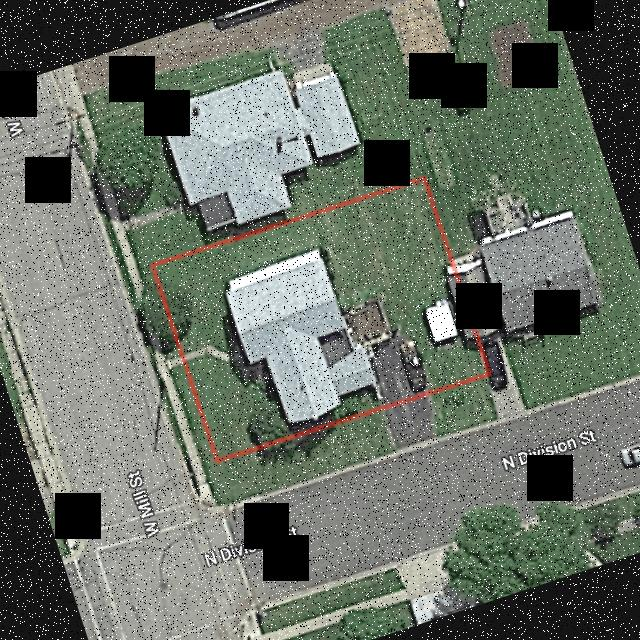Driveway: (370, 334, 429, 404)
Extra Driveway: (383, 398, 439, 447)
Extra Lawn: (206, 414, 392, 505), (170, 366, 215, 477), (430, 381, 501, 437)
Extra Sidewalk: (154, 353, 214, 505), (167, 357, 181, 369)
House: (221, 247, 380, 425)
Sidewalk: (179, 347, 230, 363)
